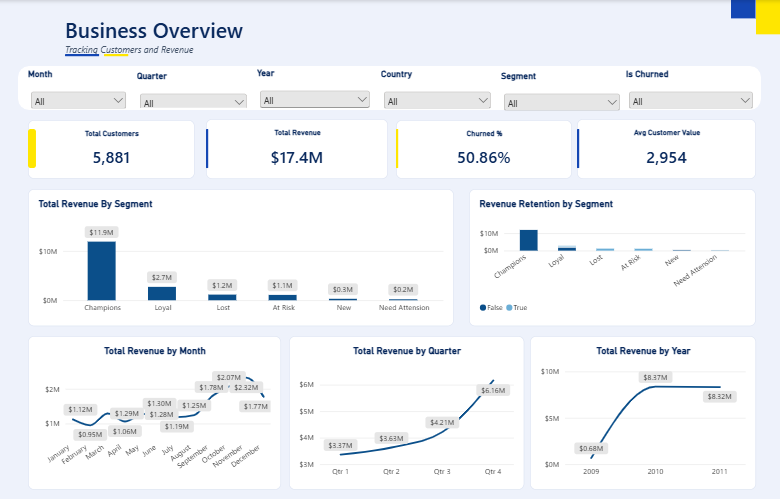

The dashboard page shown, as its layout file describes it:
{"tool":"powerbi","page":{"name":"Business Overview","canvas":[1280,816],"ordinal":1},"visuals":[{"type":"shape","box":[1200,0,40,30],"z":3000},{"type":"shape","box":[1240,0,40,56],"z":4000},{"type":"textbox","box":[112,24,850,68],"z":18000},{"type":"shape","box":[112,88,56,4],"z":19000},{"type":"shape","box":[176,88,40,4],"z":20000},{"type":"shape","box":[35.9,107.7,1212.6,71.8],"z":24000},{"type":"slicer","title":"Month","fields":{"Values":["Sheet1.Month"]},"box":[52.2,112.6,164.8,63.6],"z":25000},{"type":"slicer","title":"Quarter","fields":{"Values":["Sheet1.Quarter"]},"box":[230.1,115.9,184.4,60.4],"z":26000},{"type":"slicer","title":"Year","fields":{"Values":["Sheet1.Year"]},"box":[426,111,189.3,65.3],"z":27000},{"type":"slicer","title":"Country","fields":{"Values":["Sheet1.Country"]},"box":[628.3,112.6,184.4,63.6],"z":28000},{"type":"slicer","title":"Segment","fields":{"Values":["Sheet1.Segment"]},"box":[824.2,115.9,199.1,63.6],"z":29000},{"type":"slicer","title":"Is Churned","fields":{"Values":["Sheet1.IsChurned"]},"box":[1028.2,112.6,212.2,63.6],"z":30000},{"type":"card","title":"Total Customers","fields":{"Values":["Sheet1.Total Customers"]},"box":[52.2,195.8,272,96],"z":31000},{"type":"shape","box":[52.2,210.5,13.1,63.6],"z":32000},{"type":"card","title":"Total Revenue","fields":{"Values":["Sheet1.Total Revenue"]},"box":[342.7,194.2,297,97.9],"z":33000},{"type":"shape","box":[342.7,210.5,4,64],"z":34000},{"type":"card","title":"Churned %","fields":{"Values":["Sheet1.Churned %"]},"box":[652.8,195.8,287.2,96.3],"z":35000},{"type":"shape","box":[652.8,210.5,4,64],"z":36000},{"type":"card","title":"Avg Customer Value","fields":{"Values":["Sheet1.Avg Customer Value"]},"box":[948.2,194.2,292.1,97.9],"z":37000},{"type":"shape","box":[948.2,210.5,4,64],"z":38000},{"type":"clusteredColumnChart","title":"Total Revenue By Segment","fields":{"Category":["Sheet1.Segment"],"Y":["Sheet1.Total Revenue"]},"box":[52.2,308.4,695.2,223.6],"z":39000},{"type":"columnChart","title":"Revenue Retention by Segment","fields":{"Category":["Sheet1.Segment"],"Series":["Sheet1.IsChurned"],"Y":["Sheet1.Total Revenue"]},"box":[771.9,308.4,468.4,223.6],"z":40000},{"type":"lineChart","title":"Total Revenue by Month","fields":{"Category":["Sheet1.Month"],"Y":["Sheet1.Total Revenue"]},"box":[52.2,548.4,412.9,251.3],"z":41000},{"type":"lineChart","title":"Total Revenue by Quarter","fields":{"Category":["Sheet1.Quarter"],"Y":["Sheet1.Total Revenue"]},"box":[478.2,548.4,383.5,251.3],"z":42000},{"type":"lineChart","title":"Total Revenue by Year","fields":{"Category":["Sheet1.Year"],"Y":["Sheet1.Total Revenue"]},"box":[871.5,548.4,368.8,251.3],"z":43000}]}

Visuals, with their boxes in screenshot pixels (x1, y1, x2, y2), scaled from the page's 1280x816 canvas onto the 780x499 screenshot:
shape: bbox=(731, 0, 756, 18)
shape: bbox=(756, 0, 779, 34)
textbox: bbox=(68, 15, 586, 56)
shape: bbox=(68, 54, 102, 56)
shape: bbox=(107, 54, 132, 56)
shape: bbox=(22, 66, 761, 110)
"Month" slicer: bbox=(32, 69, 132, 108)
"Quarter" slicer: bbox=(140, 71, 253, 108)
"Year" slicer: bbox=(260, 68, 375, 108)
"Country" slicer: bbox=(383, 69, 495, 108)
"Segment" slicer: bbox=(502, 71, 624, 110)
"Is Churned" slicer: bbox=(627, 69, 756, 108)
"Total Customers" card: bbox=(32, 120, 198, 178)
shape: bbox=(32, 129, 40, 168)
"Total Revenue" card: bbox=(209, 119, 390, 179)
shape: bbox=(209, 129, 211, 168)
"Churned %" card: bbox=(398, 120, 573, 179)
shape: bbox=(398, 129, 400, 168)
"Avg Customer Value" card: bbox=(578, 119, 756, 179)
shape: bbox=(578, 129, 580, 168)
"Total Revenue By Segment" clusteredColumnChart: bbox=(32, 189, 455, 325)
"Revenue Retention by Segment" columnChart: bbox=(470, 189, 756, 325)
"Total Revenue by Month" lineChart: bbox=(32, 335, 283, 489)
"Total Revenue by Quarter" lineChart: bbox=(291, 335, 525, 489)
"Total Revenue by Year" lineChart: bbox=(531, 335, 756, 489)
